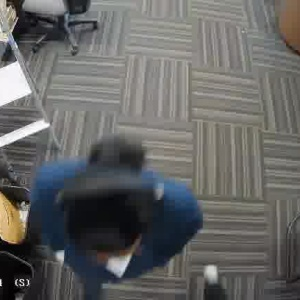person: (38, 149, 194, 273)
